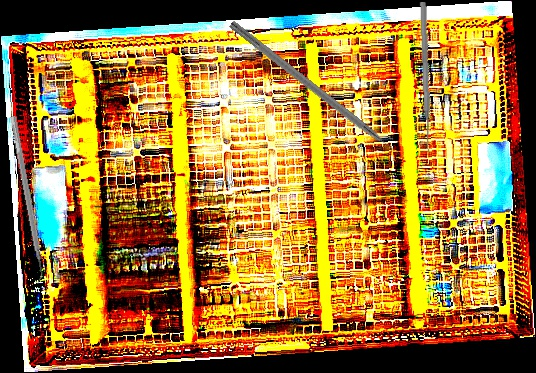Hook Surgical: (226, 20, 408, 165)
Pusher: (418, 1, 433, 154)
Spatula Surgical: (2, 115, 49, 285)
